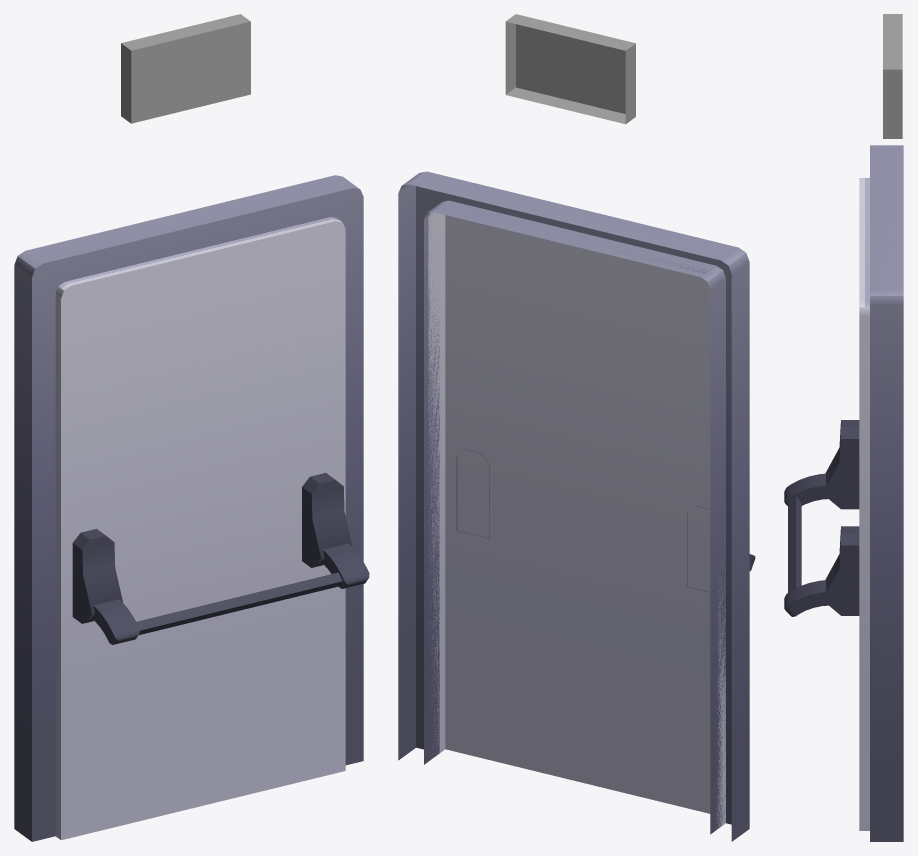
The model's file is exitDoor.fbx.
3 views of the same model, side by side, from view 1: azimuth 30°, elevation 25°; view 2: azimuth 150°, elevation 25°; view 3: azimuth 270°, elevation 25° (orthographic). The views are drawn at different scales.
Visible parts, largest first — view 1: exit_door; view 2: exit_door; view 3: exit_door.
Part boxes in pixels (box(x1,y1,x2,y2)): exit_door: box(14, 14, 369, 841); exit_door: box(398, 14, 755, 841); exit_door: box(784, 14, 903, 841).
Bounding box in the file's own units: 153 × 334 × 49.93.
